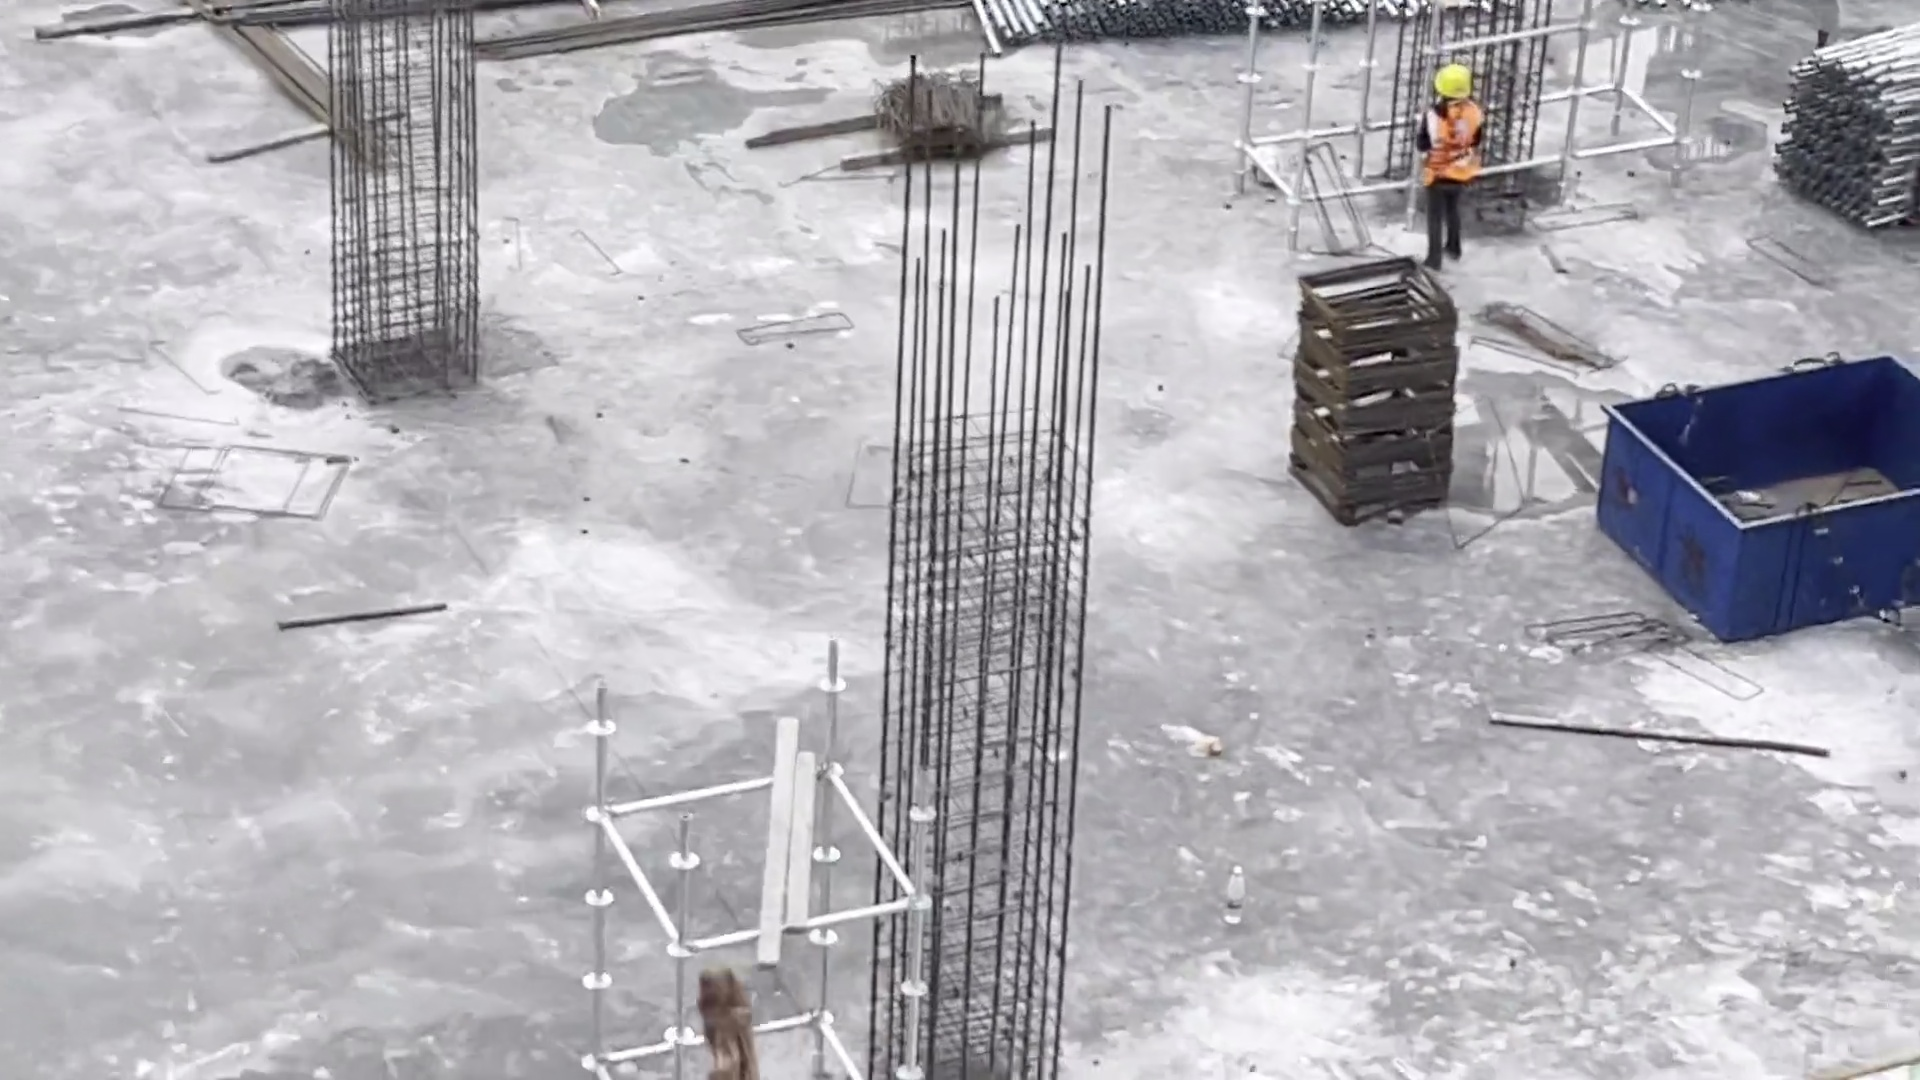helmet: (1433, 68, 1475, 100)
hopper: (1599, 350, 1920, 642)
person: (1417, 65, 1491, 265)
scaffold: (1764, 15, 1920, 263)
vest: (1418, 109, 1485, 191)
